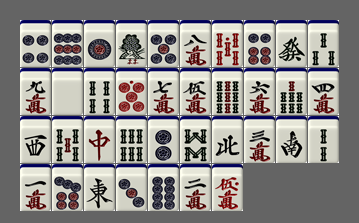0m: (212, 164, 243, 211)
0p: (116, 68, 147, 115)
0s: (212, 20, 243, 67)
1m: (20, 164, 51, 211)
1p: (84, 20, 115, 67)
1s: (116, 20, 147, 67)
1z: (84, 164, 115, 211)
2m: (180, 164, 211, 211)
2p: (148, 116, 179, 163)
2s: (308, 116, 339, 163)
2z: (276, 116, 307, 163)
3m: (244, 116, 275, 163)
3p: (116, 164, 147, 211)
3s: (308, 20, 339, 67)
3z: (20, 116, 51, 163)
4m: (308, 68, 339, 115)
4p: (20, 20, 51, 67)
4s: (84, 68, 115, 115)
4z: (212, 116, 243, 163)
5m: (180, 68, 211, 115)
5p: (148, 20, 179, 67)
5s: (52, 116, 83, 163)
5z: (52, 68, 83, 115)
6m: (244, 68, 275, 115)
6p: (244, 20, 275, 67)
6s: (116, 116, 147, 163)
6z: (276, 20, 307, 67)
7m: (148, 68, 179, 115)
7p: (52, 164, 83, 211)
7s: (276, 68, 307, 115)
7z: (84, 116, 115, 163)
8m: (180, 20, 211, 67)
8p: (148, 164, 179, 211)
8s: (180, 116, 211, 163)
9m: (20, 68, 51, 115)
9p: (52, 20, 83, 67)
9s: (212, 68, 243, 115)
